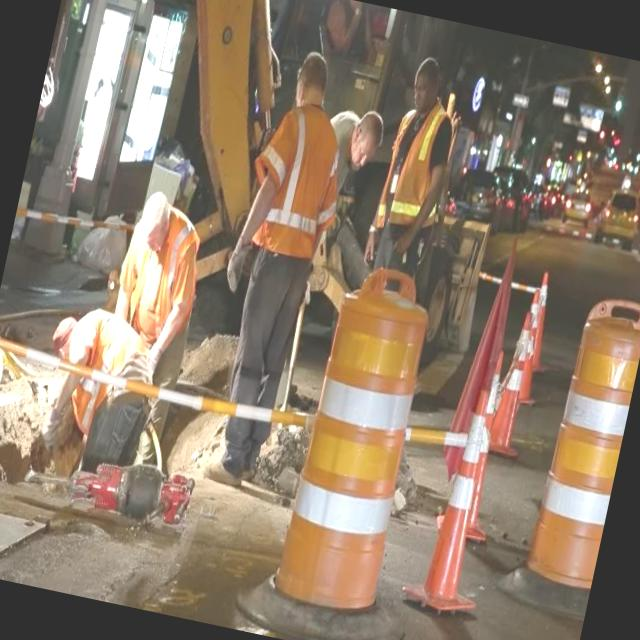no-helmet: (131, 182, 176, 252), (289, 43, 337, 100), (349, 100, 392, 156), (42, 309, 80, 368), (410, 51, 446, 94)
vest: (235, 93, 356, 274), (372, 94, 453, 237), (57, 315, 133, 440), (151, 212, 200, 316)
